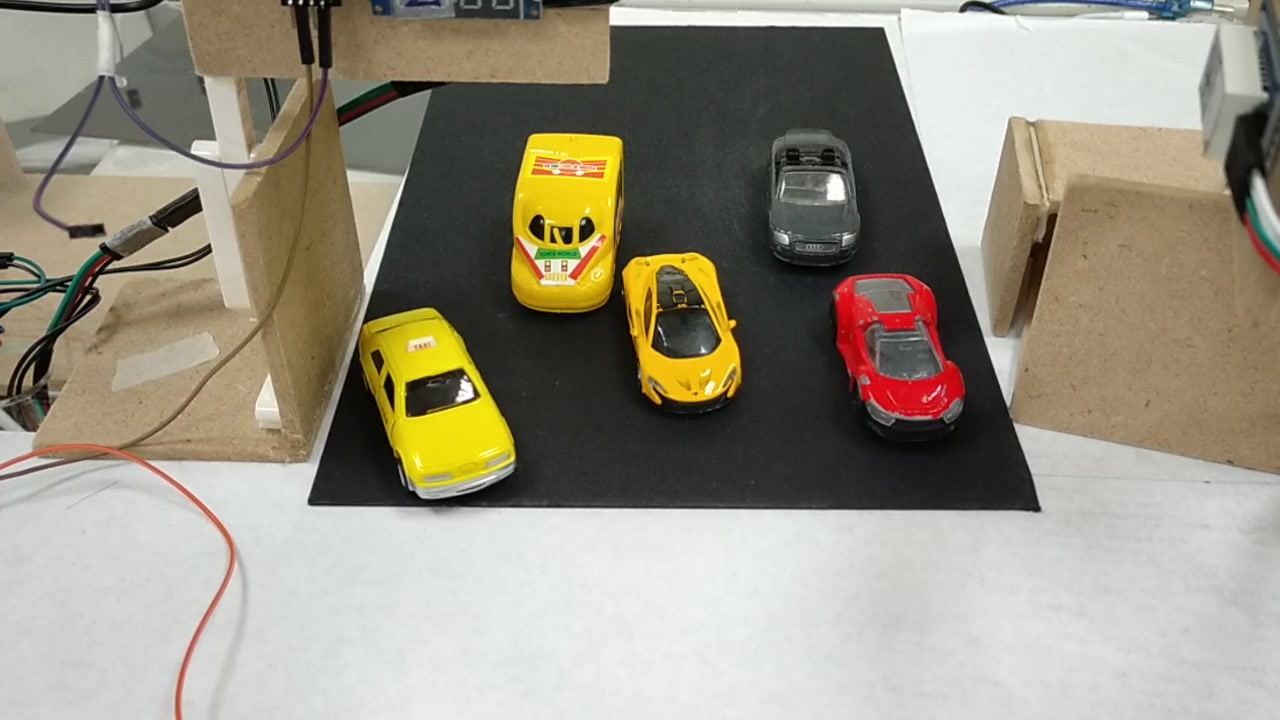car: (344, 314, 521, 504), (610, 248, 740, 421), (834, 268, 967, 433), (766, 133, 856, 271)
